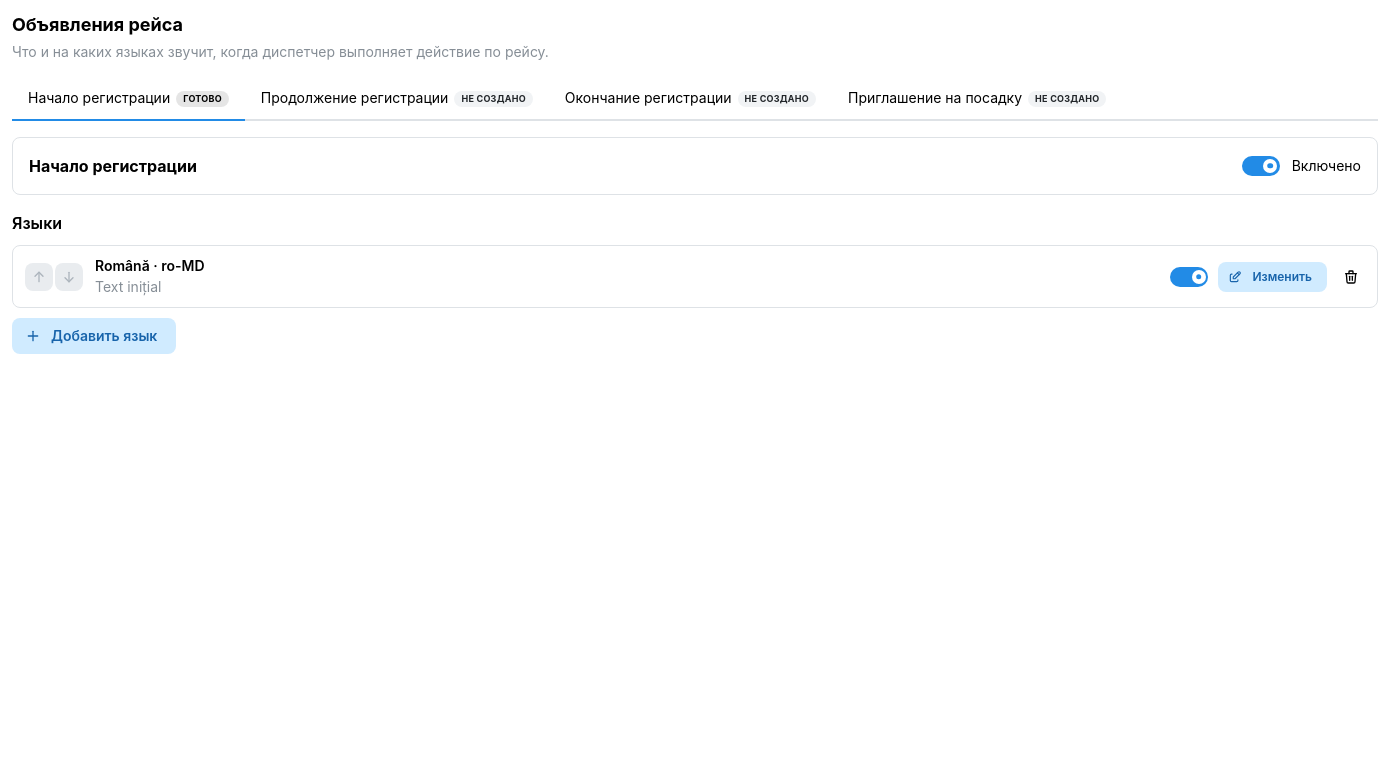
Test: FlightAnnouncementConfigsPanel › cancels an untouched new language without a request or a question
The width and height of the screenshot is (1378, 780).
What coordinates should you click on to do the following:
click the button "Добавить язык"
I would click on:
 (94, 336)
Its box is [12,318,176,354].
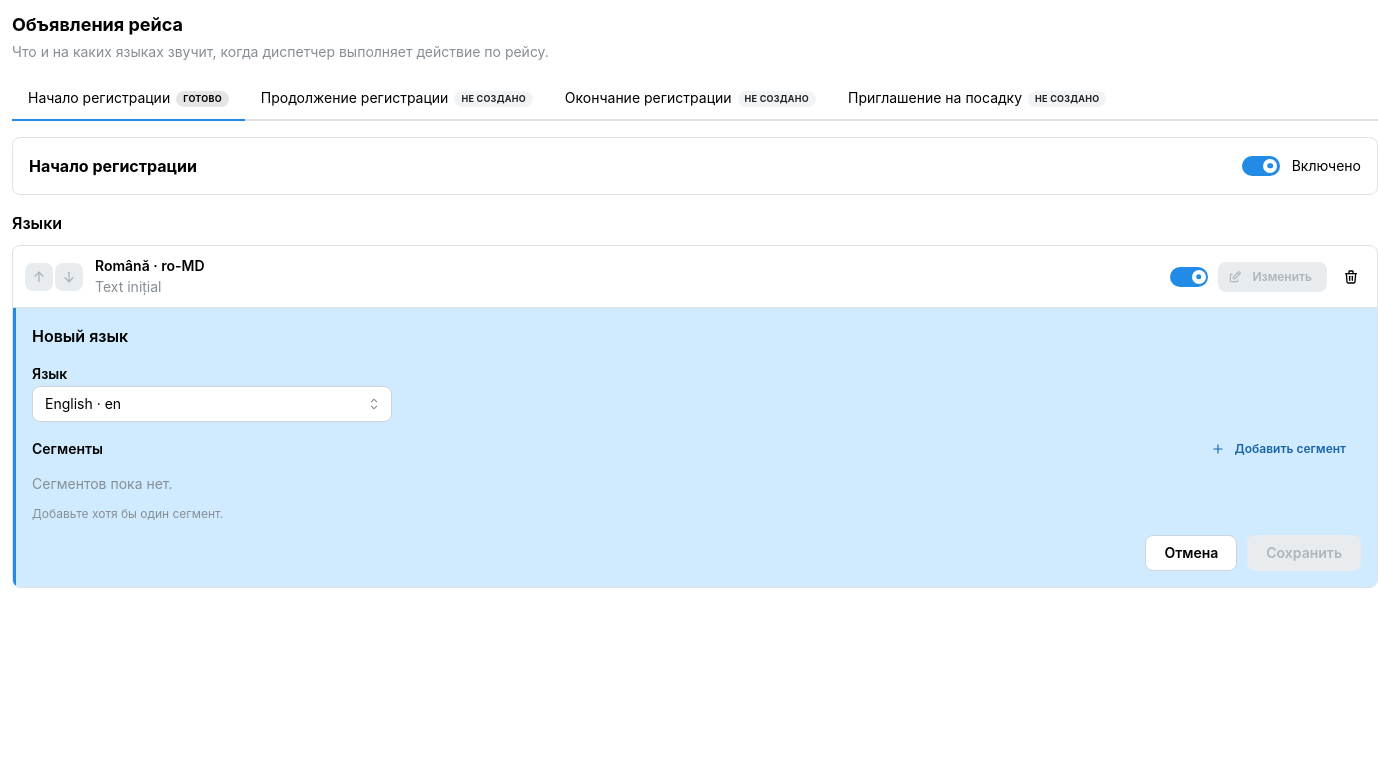
What coordinates should you click on to do the following:
click the button "Отмена"
I would click on:
 (1191, 553)
Its box is [1145,535,1237,571].
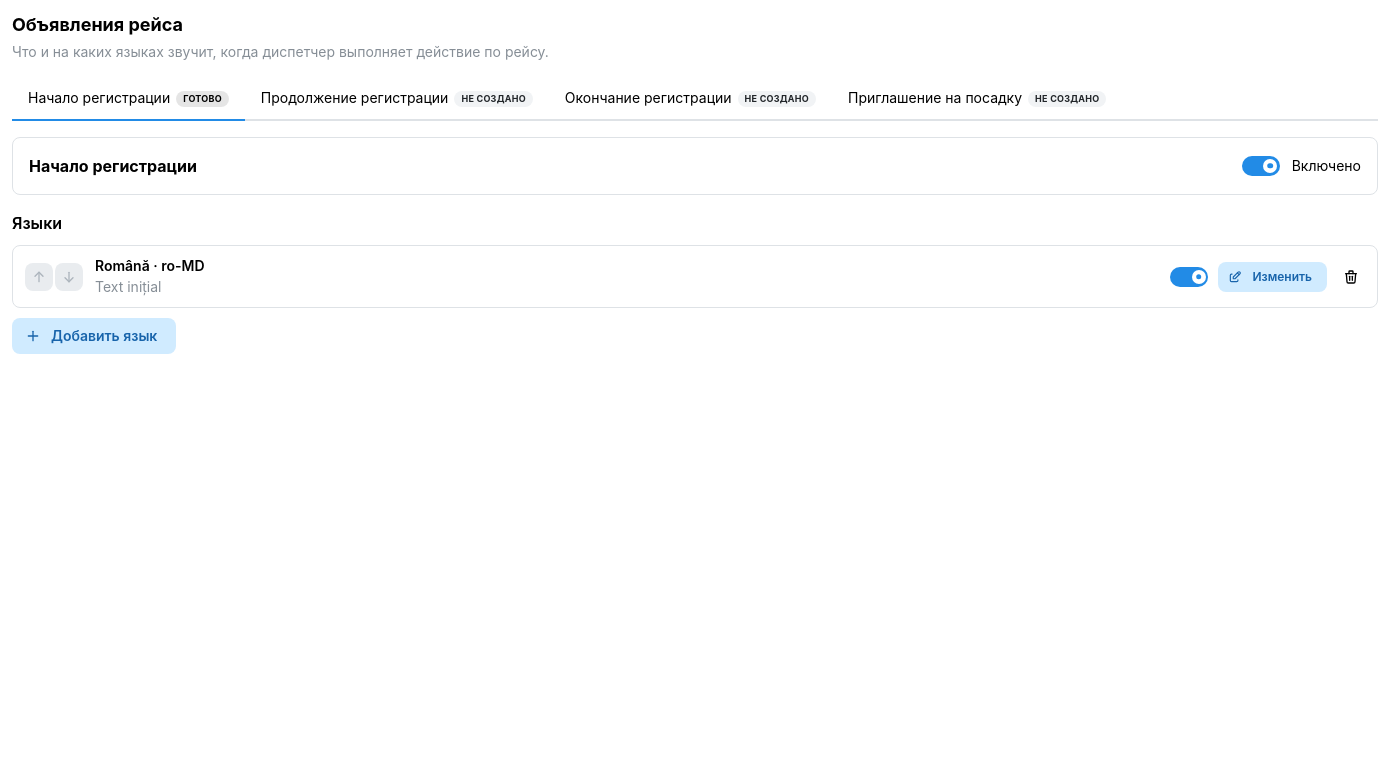
Expected: the text "Новый язык" is gone
